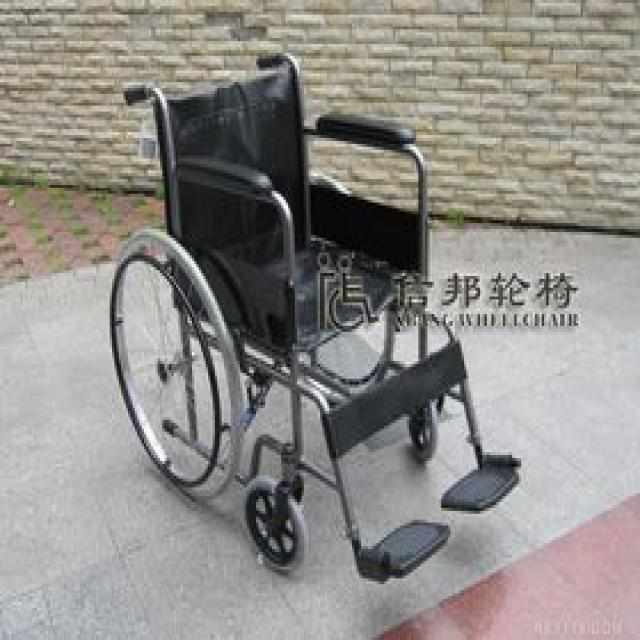wheelchair: (91, 38, 535, 593)
